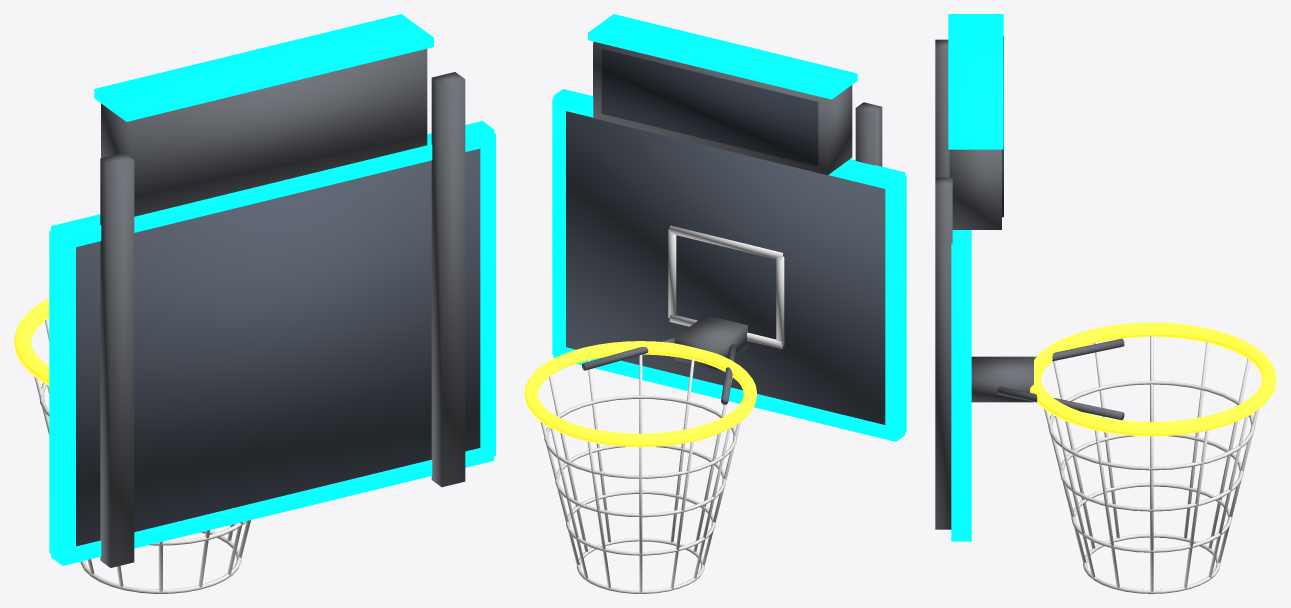
File: ArcadeBasketballHoop.fbx
3 views of the same model, side by side, from view 1: azimuth 30°, elevation 25°; view 2: azimuth 150°, elevation 25°; view 3: azimuth 270°, elevation 25° (orthographic). The views are drawn at different scales.
Parts seen in each view (by area): view 1: ArcadeBasketballHoop; view 2: ArcadeBasketballHoop; view 3: ArcadeBasketballHoop.
Boxes of the visible parts, x1,y1,x2,y2 form: ArcadeBasketballHoop: [14, 14, 495, 593]; ArcadeBasketballHoop: [524, 14, 906, 593]; ArcadeBasketballHoop: [935, 14, 1276, 593].
Bounding box in the file's own units: 73.5 × 92.6 × 58.75.
